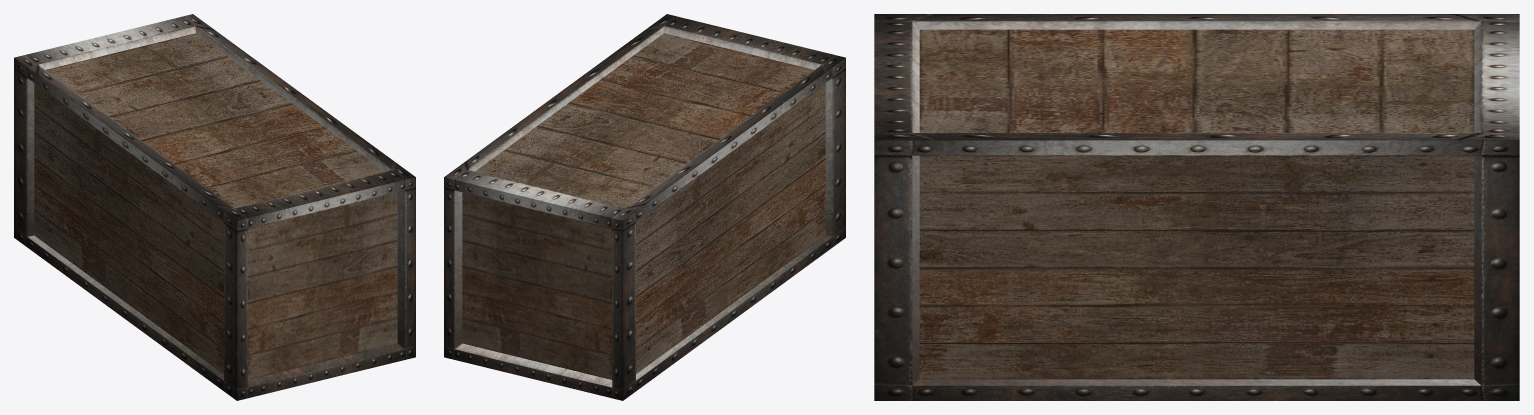
Rendered from crate2.fbx.
The picture shows the model from 3 angles, left to right: view 1: azimuth 30°, elevation 25°; view 2: azimuth 150°, elevation 25°; view 3: azimuth 270°, elevation 25°; orthographic projection. The views are drawn at different scales.
Parts seen in each view (by area): view 1: Crate2_LOD0; view 2: Crate2_LOD0; view 3: Crate2_LOD0.
Boxes of the visible parts, box(x1,y1,x2,y2) form: Crate2_LOD0: box(14, 14, 415, 400); Crate2_LOD0: box(444, 14, 845, 400); Crate2_LOD0: box(874, 14, 1519, 400).
Size of what is drawn, in the model's own units: 130 by 125 by 280.
2 materials, 2 textured.
